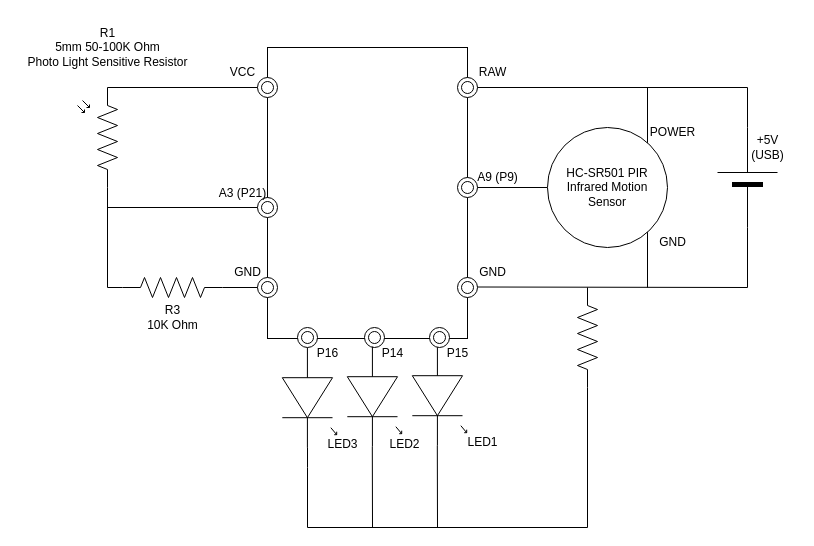
This 814x546 diagram has some shape labels left out. The shapes that lost their labels are listed below. From the top down, each one's box as (x1, y1, x2, y2) in pixels, then its label:
(266, 46, 468, 338): HiLetgo Pro Micro Atmega32U4 5V 16MHz
(576, 286, 598, 388): R2 330 Ohm
